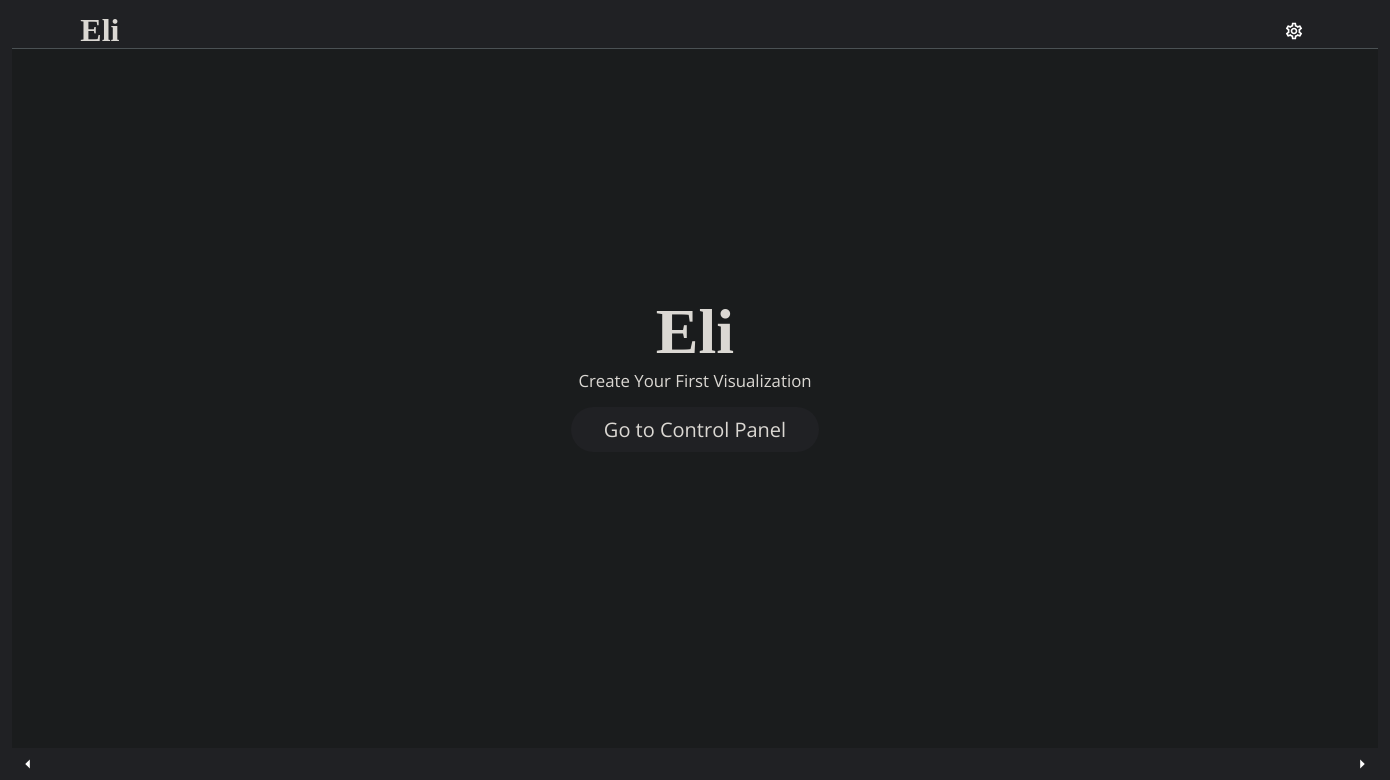
Test: Home page CTA button should redirect to control panel multiple tabs screen
Click the link "Go to Control Panel" at (695, 430), box [571,407,819,452]
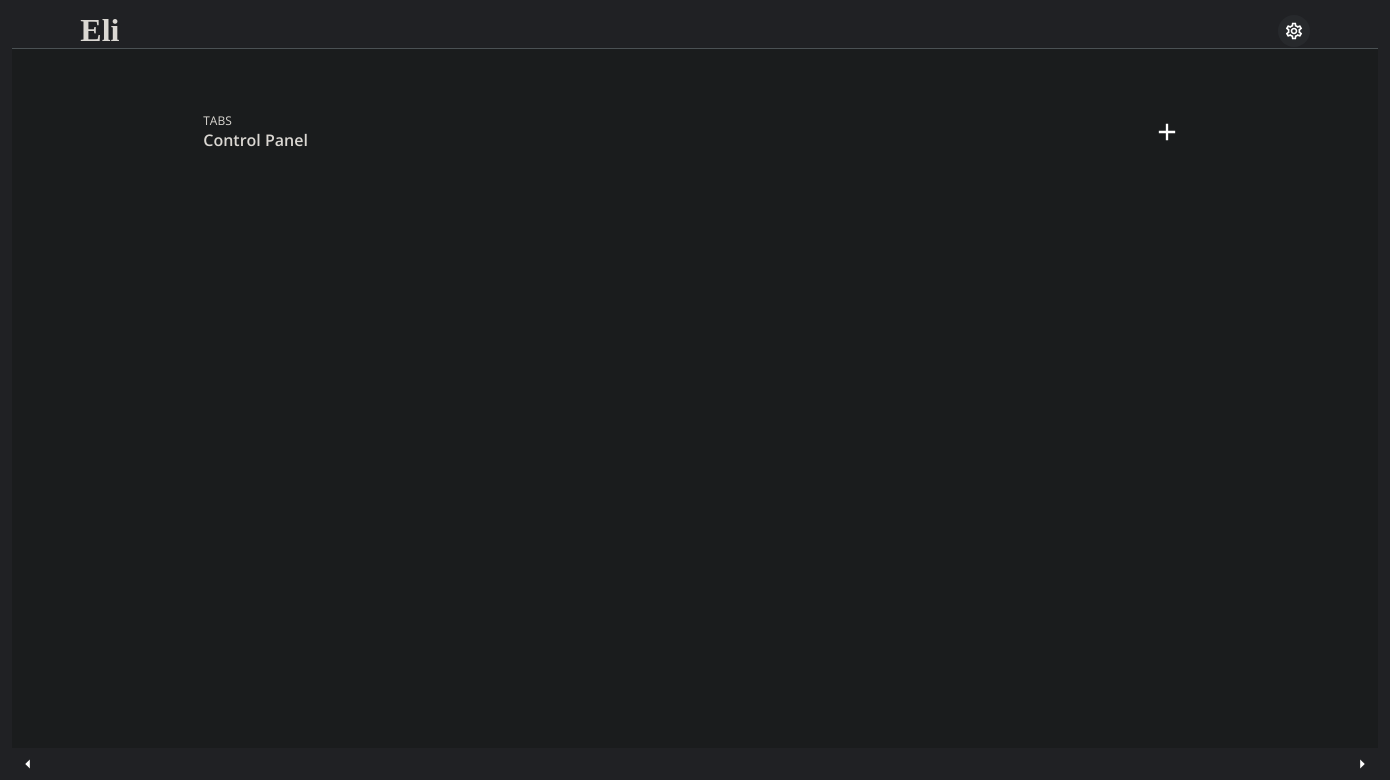
Expected: the text "TABS" is shown, [203,112,232,129]
